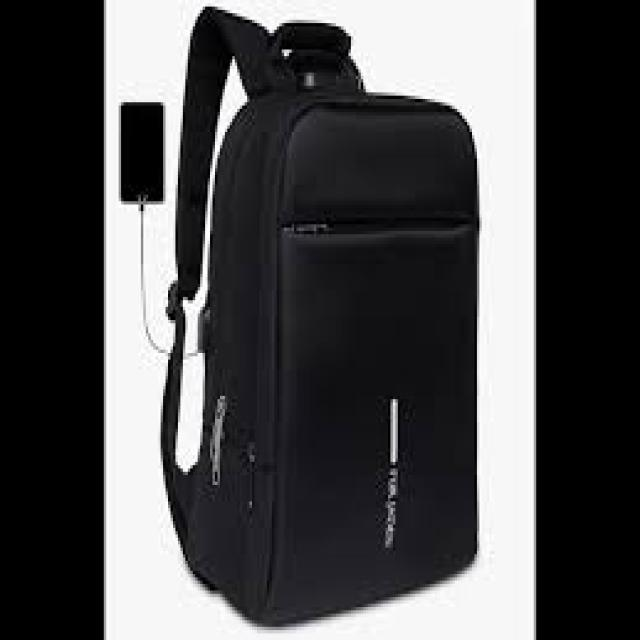backpack: (160, 4, 481, 628)
